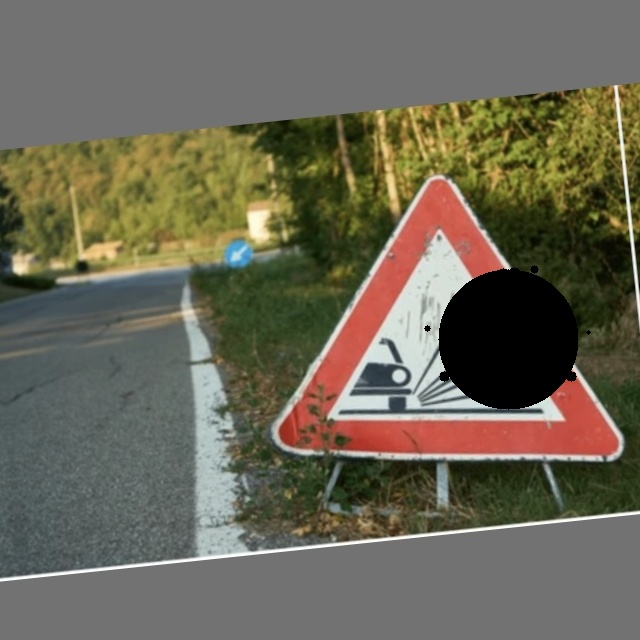Loose_Gravel: (261, 157, 618, 492)
